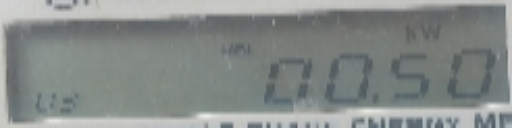0: (260, 48, 319, 111), (439, 41, 500, 101), (323, 44, 374, 106)
5: (387, 45, 437, 102)
d: (368, 86, 383, 102)
